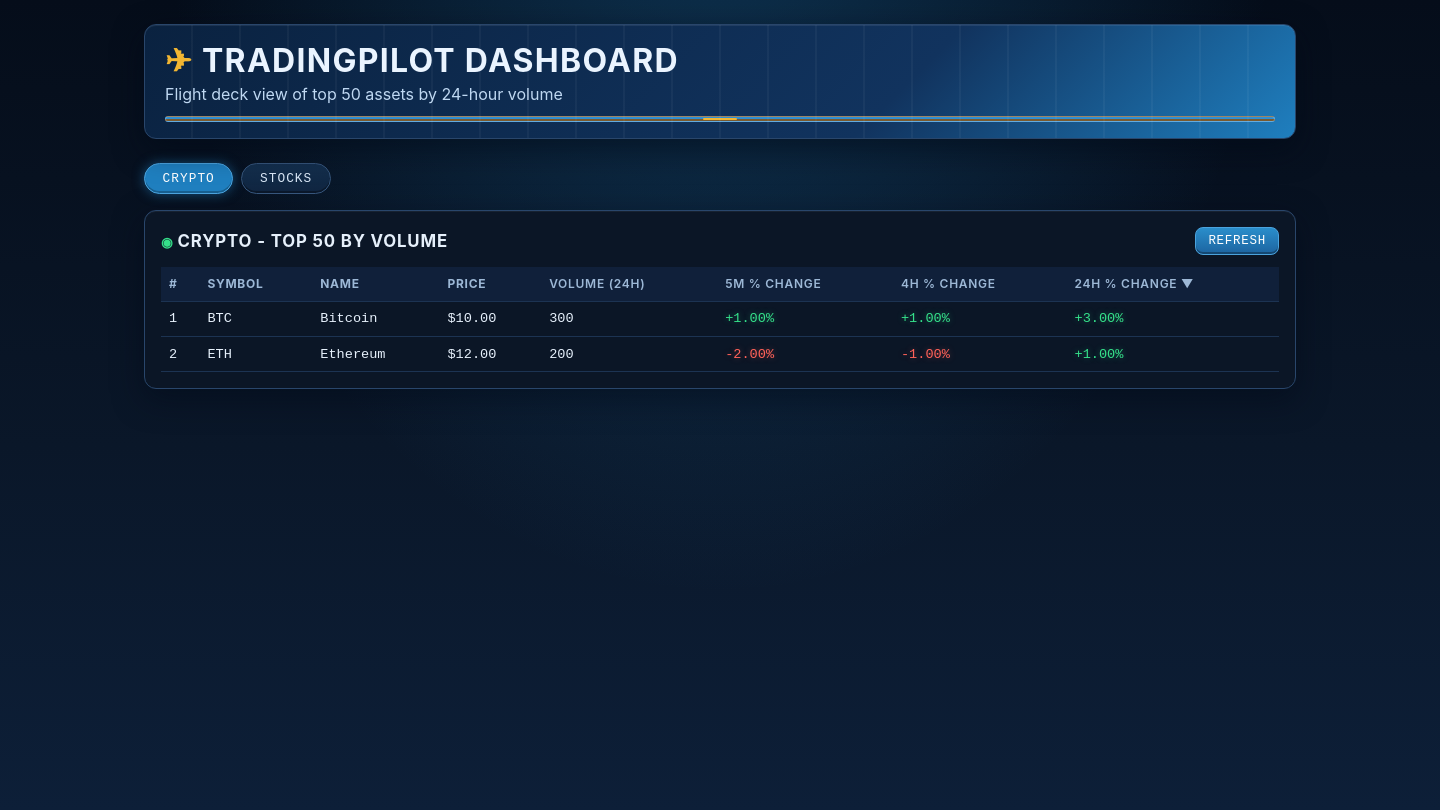
App › switches tabs and keeps active tab in URL hash
Click the button "Stocks".
click(286, 179)  # box [241,163,331,194]
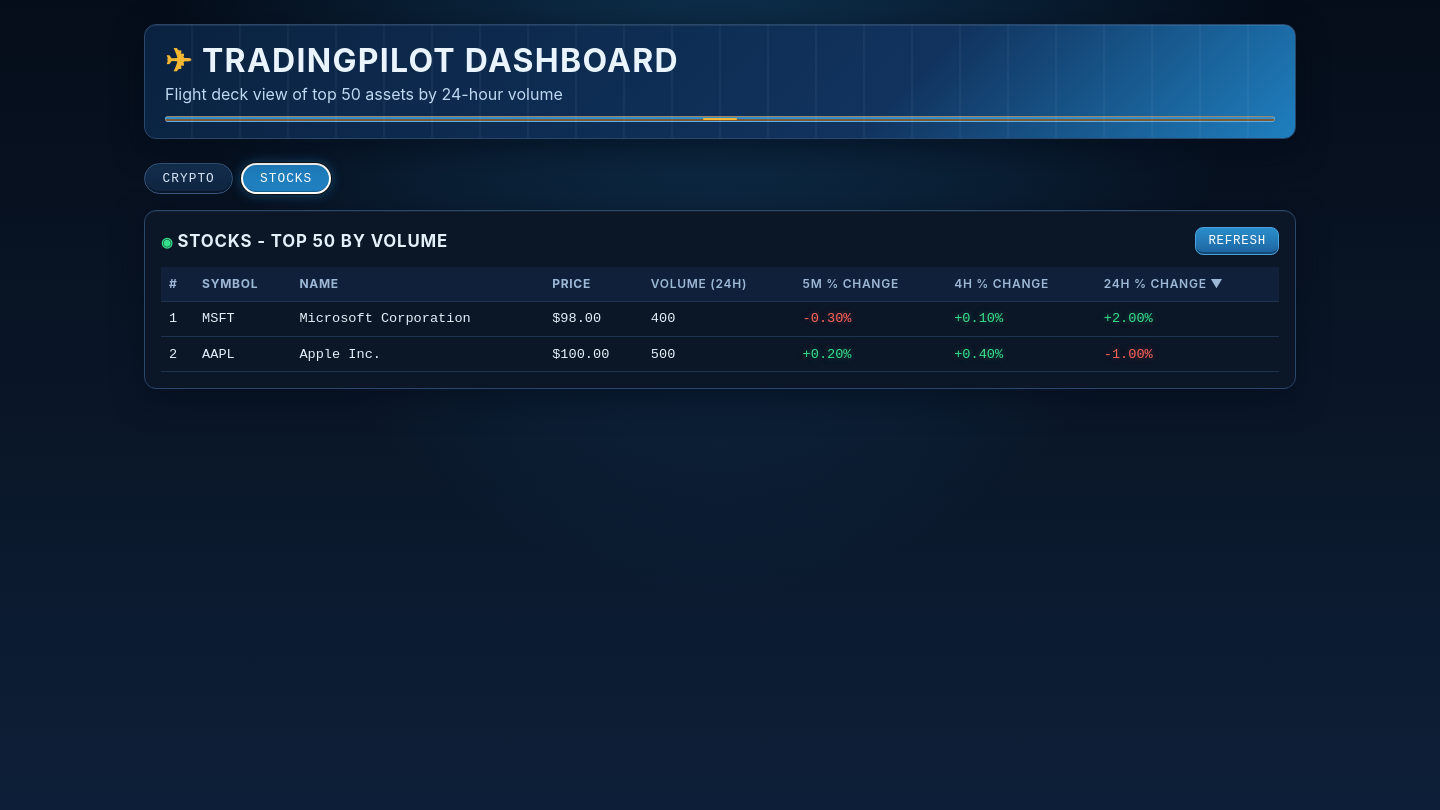
Result: the text "AAPL" is shown at [194,336,291,372]
